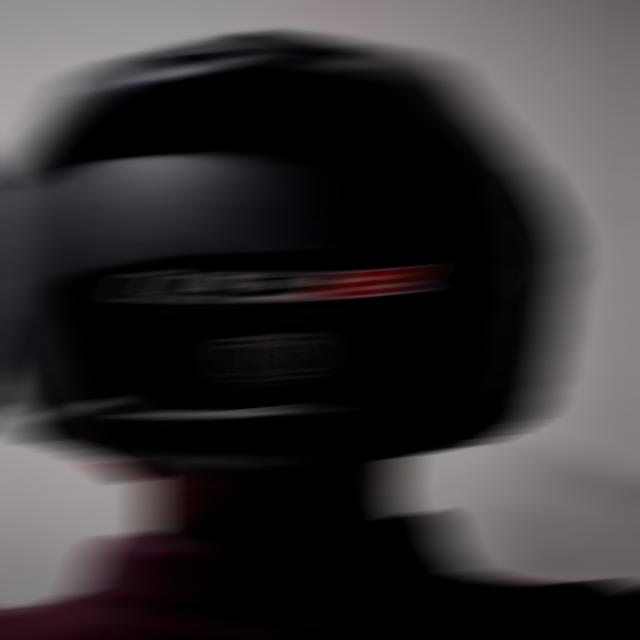With Helmet: (0, 27, 579, 474)
